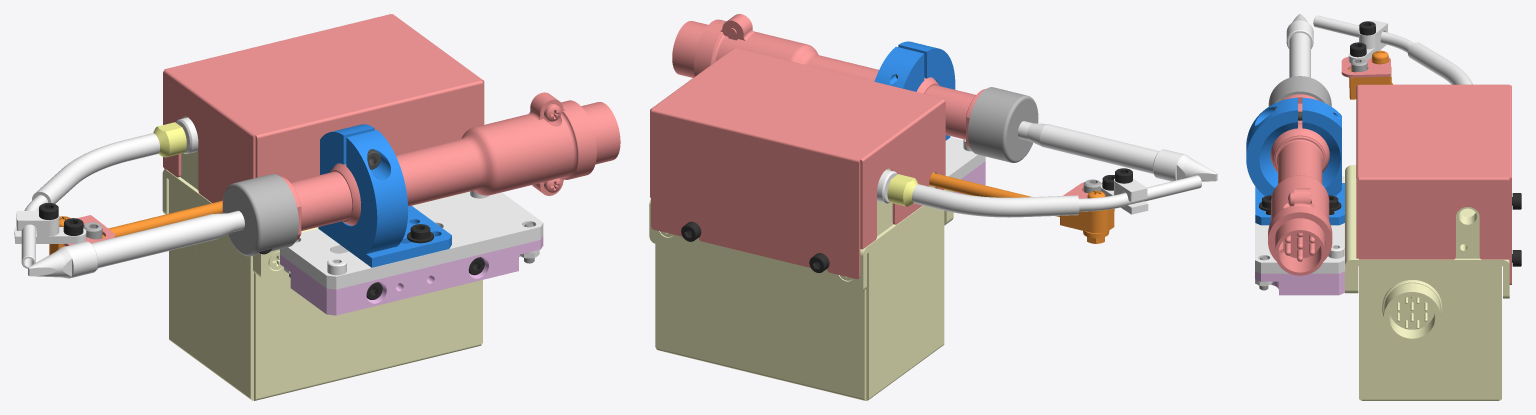
Rendered from HakkoFU500FU601.glb.
The picture shows the model from 3 angles, left to right: view 1: azimuth 30°, elevation 25°; view 2: azimuth 150°, elevation 25°; view 3: azimuth 270°, elevation 25°; orthographic projection. The views are drawn at different scales.
Parts seen in each view (by area): view 1: \X2\30D530A330FC30C030FC30E630CB30C330C830AB30D030FC\X0\, \X2\30D530A330FC30C030FC30E630CB30C330C8672C4F53\X0\12-16, FU6001_\X2\30B030EA30C330D7\X0\, \X2\30B030EA30C330D730D930FC30B9\X0\, \X2\30B030EA30C330D753D64ED891D15177\X0\, 306-06 \X2\3053306630E630CB30C330C830D930FC30B9\X0\, TX1-XD24, \X2\30D530E930C330AF30B996326B6230AB30D030FC\X0\, \X2\30AC30A430C930C130E530FC30D6\X0\, \X2\9001308A4F4D7F6E8ABF657430D630ED30C330AF\X0\, 305-56 \X2\306F309330609001308A30AC30A430C991D1517703C6\X0\1, 305-81 \X2\9001308A30D130A430D703C6\X0\1.2\X2\FF5E03C6\X0\1. (+2 smaller); view 2: \X2\30D530A330FC30C030FC30E630CB30C330C830AB30D030FC\X0\, \X2\30D530A330FC30C030FC30E630CB30C330C8672C4F53\X0\12-16, FU6001_\X2\30B030EA30C330D7\X0\, TX1-XD24, \X2\30D530E930C330AF30B996326B6230AB30D030FC\X0\, \X2\30AC30A430C930C130E530FC30D6\X0\, \X2\30B030EA30C330D753D64ED891D15177\X0\, \X2\9001308A4F4D7F6E8ABF657430D630ED30C330AF\X0\, 305-81 \X2\9001308A30D130A430D703C6\X0\1.2\X2\FF5E03C6\X0\1., \X2\30B030EA30C330D730D930FC30B9\X0\, 305-56 \X2\306F309330609001308A30AC30A430C991D1517703C6\X0\1, \X2\9001308A30D130A430D756FA5B9A91D15177\X0\12-16; view 3: \X2\30D530A330FC30C030FC30E630CB30C330C830AB30D030FC\X0\, \X2\30D530A330FC30C030FC30E630CB30C330C8672C4F53\X0\12-16, FU6001_\X2\30B030EA30C330D7\X0\, \X2\30B030EA30C330D753D64ED891D15177\X0\, \X2\30B030EA30C330D730D930FC30B9\X0\, 306-06 \X2\3053306630E630CB30C330C830D930FC30B9\X0\, TX1-XD24, \X2\30AC30A430C930C130E530FC30D6\X0\, \X2\30D530E930C330AF30B996326B6230AB30D030FC\X0\, 305-81 \X2\9001308A30D130A430D703C6\X0\1.2\X2\FF5E03C6\X0\1., \X2\9001308A4F4D7F6E8ABF657430D630ED30C330AF\X0\, \X2\9001308A4F4D7F6E8ABF6574677F\X0\ (+1 smaller).
Boxes of the visible parts, bbox=[...] form: \X2\30D530A330FC30C030FC30E630CB30C330C830AB30D030FC\X0\: bbox=[163, 14, 484, 202]; \X2\30D530A330FC30C030FC30E630CB30C330C8672C4F53\X0\12-16: bbox=[162, 116, 482, 400]; FU6001_\X2\30B030EA30C330D7\X0\: bbox=[280, 92, 620, 240]; \X2\30B030EA30C330D730D930FC30B9\X0\: bbox=[280, 190, 543, 289]; \X2\30B030EA30C330D753D64ED891D15177\X0\: bbox=[318, 124, 451, 267]; 306-06 \X2\3053306630E630CB30C330C830D930FC30B9\X0\: bbox=[280, 236, 543, 315]; TX1-XD24: bbox=[28, 210, 244, 278]; \X2\30D530E930C330AF30B996326B6230AB30D030FC\X0\: bbox=[222, 174, 298, 256]; \X2\30AC30A430C930C130E530FC30D6\X0\: bbox=[32, 133, 159, 203]; \X2\9001308A4F4D7F6E8ABF657430D630ED30C330AF\X0\: bbox=[49, 200, 222, 255]; 305-56 \X2\306F309330609001308A30AC30A430C991D1517703C6\X0\1: bbox=[153, 122, 186, 157]; 305-81 \X2\9001308A30D130A430D703C6\X0\1.2\X2\FF5E03C6\X0\1.: bbox=[21, 195, 48, 268]; \X2\30D530A330FC30C030FC30E630CB30C330C830AB30D030FC\X0\: bbox=[650, 48, 945, 279]; \X2\30D530A330FC30C030FC30E630CB30C330C8672C4F53\X0\12-16: bbox=[649, 168, 953, 400]; FU6001_\X2\30B030EA30C330D7\X0\: bbox=[672, 14, 985, 148]; TX1-XD24: bbox=[1017, 121, 1217, 181]; \X2\30D530E930C330AF30B996326B6230AB30D030FC\X0\: bbox=[968, 87, 1038, 162]; \X2\30AC30A430C930C130E530FC30D6\X0\: bbox=[912, 184, 1079, 217]; \X2\30B030EA30C330D753D64ED891D15177\X0\: bbox=[874, 41, 955, 140]; \X2\9001308A4F4D7F6E8ABF657430D630ED30C330AF\X0\: bbox=[929, 173, 1114, 243]; 305-81 \X2\9001308A30D130A430D703C6\X0\1.2\X2\FF5E03C6\X0\1.: bbox=[1078, 175, 1201, 211]; \X2\30B030EA30C330D730D930FC30B9\X0\: bbox=[945, 137, 985, 179]; 305-56 \X2\306F309330609001308A30AC30A430C991D1517703C6\X0\1: bbox=[887, 174, 917, 206]; \X2\9001308A30D130A430D756FA5B9A91D15177\X0\12-16: bbox=[1113, 178, 1147, 201]; \X2\30D530A330FC30C030FC30E630CB30C330C830AB30D030FC\X0\: bbox=[1356, 84, 1511, 284]; \X2\30D530A330FC30C030FC30E630CB30C330C8672C4F53\X0\12-16: bbox=[1345, 165, 1509, 400]; FU6001_\X2\30B030EA30C330D7\X0\: bbox=[1268, 94, 1332, 275]; \X2\30B030EA30C330D753D64ED891D15177\X0\: bbox=[1246, 97, 1344, 225]; \X2\30B030EA30C330D730D930FC30B9\X0\: bbox=[1255, 175, 1344, 273]; 306-06 \X2\3053306630E630CB30C330C830D930FC30B9\X0\: bbox=[1255, 223, 1344, 295]; TX1-XD24: bbox=[1286, 14, 1313, 77]; \X2\30AC30A430C930C130E530FC30D6\X0\: bbox=[1407, 42, 1472, 84]; \X2\30D530E930C330AF30B996326B6230AB30D030FC\X0\: bbox=[1268, 76, 1331, 106]; 305-81 \X2\9001308A30D130A430D703C6\X0\1.2\X2\FF5E03C6\X0\1.: bbox=[1313, 15, 1413, 52]; \X2\9001308A4F4D7F6E8ABF657430D630ED30C330AF\X0\: bbox=[1349, 50, 1393, 99]; \X2\9001308A4F4D7F6E8ABF6574677F\X0\: bbox=[1341, 56, 1390, 77].
Bounding box in the file's own units: 0.1862 × 0.0858 × 0.092.
